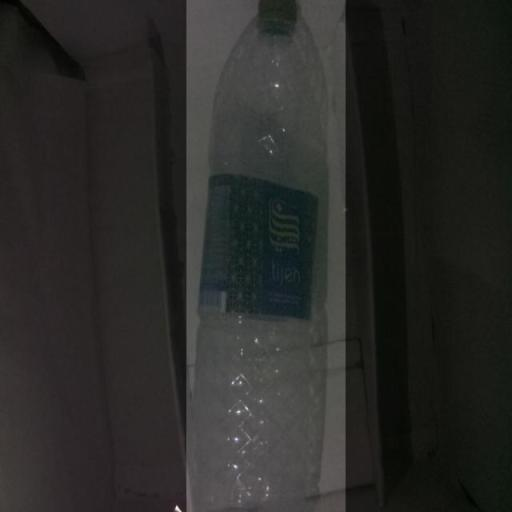plastic: (187, 0, 347, 512)
